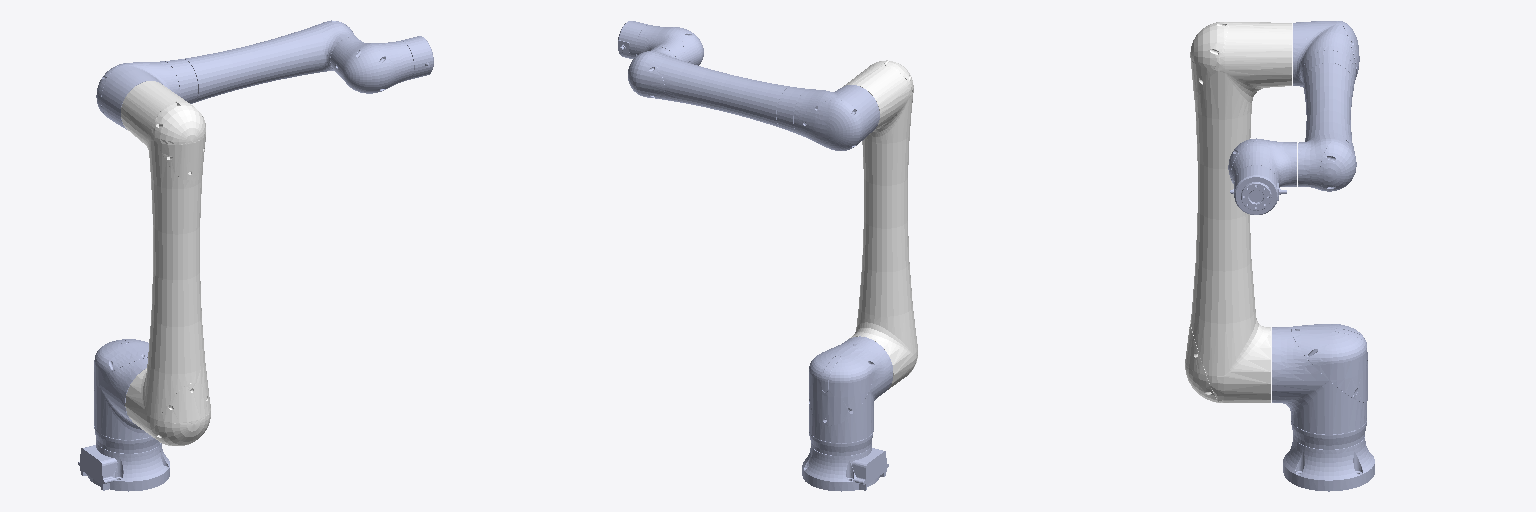
robot.urdf — fanuc:
<?xml version="1.0" encoding="utf-8"?>
<!-- This URDF was automatically created by SolidWorks to URDF Exporter! Originally created by [author] ([email redacted]) 
     Commit Version: 1.6.0-4-g7f85cfe  Build Version: 1.6.7995.38578
     For more information, please see http://wiki.ros.org/sw_urdf_exporter -->
<robot
  name="fanuc">
  
  <link 
    name="world"/>
    
  <joint 
    name="base_joint" 
    type="fixed">
    <origin
      xyz="0 0 0.0"
      rpy="-1.57 0 0" />
    <parent
      link="world" />
    <child
      link="base_link" />
  </joint>
  
  <link
    name="base_link">
    <inertial>
      <origin xyz="-0.00329048 -0.02033528 0.00093672"/>
      <mass value="9.92000000"/>
      <inertia ixx="0.02528990" ixy="-0.00030938" ixz="-0.00000638" iyy="0.04289183" iyz="0.00000276" izz="0.02888818"/>
    </inertial>

    <visual>
      <origin
        xyz="0 0 0"
        rpy="0 0 0" />
      <geometry>
        <mesh
          filename="package://fanuc/meshes/base_link.STL" />
      </geometry>
      <material
        name="">
        <color
          rgba="0.79608 0.82353 0.93725 1" />
      </material>
    </visual>
    <collision>
      <origin
        xyz="0 0 0"
        rpy="0 0 0" />
      <geometry>
        <mesh
          filename="package://fanuc/meshes/base_link.STL" />
      </geometry>
    </collision>
  </link>
  
  <link
    name="Link_1">
    <inertial>
      <origin xyz="-0.00506694 0.00467160 0.11028854"/>
      <mass value="3.84000000"/>
      <inertia ixx="0.02569997" ixy="-0.00000034" ixz="-0.00000014" iyy="0.02211221" iyz="0.00168942" izz="0.01667992"/>
    </inertial>


    <visual>
      <origin
        xyz="0 0 0"
        rpy="0 0 0" />
      <geometry>
        <mesh
          filename="package://fanuc/meshes/Link_1.STL" />
      </geometry>
      <material
        name="">
        <color
          rgba="0.79608 0.82353 0.93725 1" />
      </material>
    </visual>
    <collision>
      <origin
        xyz="0 0 0"
        rpy="0 0 0" />
      <geometry>
        <mesh
          filename="package://fanuc/meshes/Link_1.STL" />
      </geometry>
    </collision>
  </link>
  
  <joint
    name="Joint_1"
    type="revolute">
    <origin
      xyz="0 -0.1277 0"
      rpy="1.5708 0 0" />
    <parent
      link="base_link" />
    <child
      link="Link_1" />
    <axis
      xyz="0 0 -1" />
    <limit
      lower="-3.31613"
      upper="3.31613"
      effort="50"
      velocity="2.094395" />
  </joint>
  
  <link
    name="Link_2">
    <inertial>
      <origin xyz="0.00051231 -0.24024661 0.38801491"/>
      <mass value="11.52000000"/>
      <inertia ixx="0.67622107" ixy="0.00000567" ixz="0.00002455" iyy="0.66076284" iyz="-0.02211019" izz="0.05165074"/>
    </inertial>

    <visual>
      <origin
        xyz="0 0 0"
        rpy="0 0 0" />
      <geometry>
        <mesh
          filename="package://fanuc/meshes/Link_2.STL" />
      </geometry>
      <material
        name="">
        <color
          rgba="1 1 1 1" />
      </material>
    </visual>
    <collision>
      <origin
        xyz="0 0 0"
        rpy="0 0 0" />
      <geometry>
        <mesh
          filename="package://fanuc/meshes/Link_2.STL" />
      </geometry>
    </collision>
  </link>
  
  <joint
    name="Joint_2"
    type="revolute">
    <origin
      xyz="0 0 0.1173"
      rpy="0 0 0" />
    <parent
      link="Link_1" />
    <child
      link="Link_2" />
    <axis
      xyz="0 -1 0" />
    <limit
      lower="-3.14159"
      upper="3.14159"
      effort="45"
      velocity="2.094395" />
  </joint>
  
  <link
    name="Link_3">
    <inertial>
      <origin xyz="0.01750312 0.02330679 -0.00063791"/>
      <mass value="2.88000000"/>
      <inertia ixx="0.00684691" ixy="-0.00047246" ixz="0.00000038" iyy="0.01280498" iyz="0.00000009" izz="0.01307738"/>
    </inertial>

    <visual>
      <origin
        xyz="0 0 0"
        rpy="0 0 0" />
      <geometry>
        <mesh
          filename="package://fanuc/meshes/Link_3.STL" />
      </geometry>
      <material
        name="">
        <color
          rgba="0.796078431372549 0.823529411764706 0.937254901960784 1" />
      </material>
    </visual>
    <collision>
      <origin
        xyz="0 0 0"
        rpy="0 0 0" />
      <geometry>
        <mesh
          filename="package://fanuc/meshes/Link_3.STL" />
      </geometry>
    </collision>
  </link>
  
  <joint
    name="Joint_3"
    type="revolute">
    <origin
      xyz="0 0 0.71"
      rpy="0 0 0" />
    <parent
      link="Link_2" />
    <child
      link="Link_3" />
    <axis
      xyz="0 -1 0" />
    <limit
      lower="-4.97419"
      upper="4.97419"
      effort="40"
      velocity="3.141593" />
  </joint>
  
  <link
    name="Link_4">
    <inertial>
      <origin xyz="-0.02240763 0.00549191 -0.00001857"/>
      <mass value="8.64000000"/>
      <inertia ixx="0.01445615" ixy="0.00238610" ixz="0.00000151" iyy="0.13431462" iyz="0.00000302" izz="0.13541640"/>
    </inertial>

    <visual>
      <origin
        xyz="0 0 0"
        rpy="0 0 0" />
      <geometry>
        <mesh
          filename="package://fanuc/meshes/Link_4.STL" />
      </geometry>
      <material
        name="">
        <color
          rgba="0.796078431372549 0.823529411764706 0.937254901960784 1" />
      </material>
    </visual>
    <collision>
      <origin
        xyz="0 0 0"
        rpy="0 0 0" />
      <geometry>
        <mesh
          filename="package://fanuc/meshes/Link_4.STL" />
      </geometry>
    </collision>
  </link>
  
  <joint
    name="Joint_4"
    type="revolute">
    <origin
      xyz="0.54 0 0"
      rpy="0 0 0" />
    <parent
      link="Link_3" />
    <child
      link="Link_4" />
    <axis
      xyz="-1 0 0" />
    <limit
      lower="-3.31615"
      upper="3.31615"
      effort="34.8"
      velocity="3.1416" />
  </joint>
  
  <link
    name="Link_5">
    <inertial>
      <origin xyz="0.00048703 0.00243462 -0.00008948"/>
      <mass value="1.60000000"/>
      <inertia ixx="0.00311136" ixy="0.00029011" ixz="-0.00000001" iyy="0.00354547" iyz="-0.00000000" izz="0.00441730"/>
    </inertial>

    <visual>
      <origin
        xyz="0 0 0"
        rpy="0 0 0" />
      <geometry>
        <mesh
          filename="package://fanuc/meshes/Link_5.STL" />
      </geometry>
      <material
        name="">
        <color
          rgba="0.796078431372549 0.823529411764706 0.937254901960784 1" />
      </material>
    </visual>
    <collision>
      <origin
        xyz="0 0 0"
        rpy="0 0 0" />
      <geometry>
        <mesh
          filename="package://fanuc/meshes/Link_5.STL" />
      </geometry>
    </collision>
  </link>
  
  <joint
    name="Joint_5"
    type="revolute">
    <origin
      xyz="0 -0.15 0"
      rpy="0 0 0" />
    <parent
      link="Link_4" />
    <child
      link="Link_5" />
    <axis
      xyz="0 -1 0" />
    <limit
      lower="-3.14159"
      upper="3.14159"
      effort="26"
      velocity="3.1416" />
  </joint>
  
  <link
    name="Link_6">
    <inertial>
      <origin xyz="-0.01318563 0.00056378 -0.00024276"/>
      <mass value="1.60000000"/>
      <inertia ixx="0.00177658" ixy="0.00000062" ixz="-0.00000001" iyy="0.00120978" iyz="0.00000003" izz="0.00141833"/>
    </inertial>

    <visual>
      <origin
        xyz="0 0 0"
        rpy="0 0 0" />
      <geometry>
        <mesh
          filename="package://fanuc/meshes/Link_6.STL" />
      </geometry>
      <material
        name="">
        <color
          rgba="0.792156862745098 0.819607843137255 0.933333333333333 1" />
      </material>
    </visual>
    <collision>
      <origin
        xyz="0 0 0"
        rpy="0 0 0" />
      <geometry>
        <mesh
          filename="package://fanuc/meshes/Link_6.STL" />
      </geometry>
    </collision>
  </link>
  
  <joint
    name="Joint_6"
    type="revolute">
    <origin
      xyz="0.16 0 0"
      rpy="0 0 0" />
    <parent
      link="Link_5" />
    <child
      link="Link_6" />
    <axis
      xyz="1 0 0" />
    <limit
      lower="-3.927"
      upper="3.927"
      effort="11"
      velocity="3.1416" />
  </joint>
  
  <transmission 
    name="Link_1_Trans">
    <type>
      transmission_interface/SimpleTransmission
    </type>
    <joint 
    	name="Joint_1">
      <hardwareInterface>
        hardware_interface/PositionJointInterface
      </hardwareInterface>
    </joint>
    <actuator
      name="Joint_1_Motor">
      <hardwareInterface>
        hardware_interface/PositionJointInterface
      </hardwareInterface>
      <mechanicalReduction>1</mechanicalReduction>
    </actuator>
  </transmission>
  
  <transmission 
    name="Link_2_Trans">
    <type>
      transmission_interface/SimpleTransmission
    </type>
    <joint 
    	name="Joint_2">
      <hardwareInterface>
        hardware_interface/PositionJointInterface
      </hardwareInterface>
    </joint>
    <actuator
      name="Joint_2_Motor">
      <hardwareInterface>
        hardware_interface/PositionJointInterface
      </hardwareInterface>
      <mechanicalReduction>1</mechanicalReduction>
    </actuator>
  </transmission>
  
  <transmission 
    name="Link_3_Trans">
    <type>
      transmission_interface/SimpleTransmission
    </type>
    <joint 
    	name="Joint_3">
      <hardwareInterface>
        hardware_interface/PositionJointInterface
      </hardwareInterface>
    </joint>
    <actuator
      name="Joint_3_Motor">
      <hardwareInterface>
        hardware_interface/PositionJointInterface
      </hardwareInterface>
      <mechanicalReduction>1</mechanicalReduction>
    </actuator>
  </transmission>
  
  <transmission 
    name="Link_4_Trans">
    <type>
      transmission_interface/SimpleTransmission
    </type>
    <joint 
    	name="Joint_4">
      <hardwareInterface>
        hardware_interface/PositionJointInterface
      </hardwareInterface>
    </joint>
    <actuator
      name="Joint_4_Motor">
      <hardwareInterface>
        hardware_interface/PositionJointInterface
      </hardwareInterface>
      <mechanicalReduction>1</mechanicalReduction>
    </actuator>
  </transmission>
  
  <transmission 
    name="Link_5_Trans">
    <type>
      transmission_interface/SimpleTransmission
    </type>
    <joint 
    	name="Joint_5">
      <hardwareInterface>
        hardware_interface/PositionJointInterface
      </hardwareInterface>
    </joint>
    <actuator
      name="Joint_5_Motor">
      <hardwareInterface>
        hardware_interface/PositionJointInterface
      </hardwareInterface>
      <mechanicalReduction>1</mechanicalReduction>
    </actuator>
  </transmission>
  
  <transmission 
    name="Link_6_Trans">
    <type>
      transmission_interface/SimpleTransmission
    </type>
    <joint 
    	name="Joint_6">
      <hardwareInterface>
        hardware_interface/PositionJointInterface
      </hardwareInterface>
    </joint>
    <actuator
      name="Joint_6_Motor">
      <hardwareInterface>
        hardware_interface/PositionJointInterface
      </hardwareInterface>
      <mechanicalReduction>1</mechanicalReduction>
    </actuator>
  </transmission>

  <gazebo>
    <plugin
      name="control"
      filename="libgazebo_ros_control.so">
      <robotNamespace>/</robotNamespace>
    </plugin>
    <plugin 
      name="gazebo_ros_control" 
      filename="libgazebo_ros_control.so">
      <robotNamespace>/</robotNamespace>
    </plugin>
  </gazebo>
  
  <gazebo
    reference="Link_1">
    <selfCollide>true</selfCollide>
    <turnGravityOff>true</turnGravityOff>
  </gazebo>
  
  <gazebo
    reference="Link_2">
    <selfCollide>true</selfCollide>
    <turnGravityOff>true</turnGravityOff>
  </gazebo>
  
  <gazebo
    reference="Link_3">
    <selfCollide>true</selfCollide>
    <turnGravityOff>true</turnGravityOff>
  </gazebo>
  
  <gazebo
    reference="Link_4">
    <selfCollide>true</selfCollide>
    <turnGravityOff>true</turnGravityOff>
  </gazebo>
  
  <gazebo
    reference="Link_5">
    <selfCollide>true</selfCollide>
    <turnGravityOff>true</turnGravityOff>
  </gazebo>
  
  <gazebo
    reference="Link_6">
    <selfCollide>true</selfCollide>
    <turnGravityOff>true</turnGravityOff>
  </gazebo>
  
</robot>

--- What the picture shows (computed from the rendered views, not written in the file) ---
Views: 3 orthographic renders of the robot side by side, from view 1: azimuth 30°, elevation 25°; view 2: azimuth 150°, elevation 25°; view 3: azimuth 270°, elevation 25°.
Model fanuc with 8 links and 7 joints (6 revolute, 1 fixed), rooted at world, posed all joints at 0.
Visible links, largest first — view 1: Link_2, Link_4, Link_1, Link_5, Link_3, base_link, Link_6; view 2: Link_2, Link_1, Link_4, Link_3, base_link, Link_5, Link_6; view 3: Link_2, Link_1, Link_4, base_link, Link_3, Link_5, Link_6.
Boxes of the visible links, box(x1,y1,x2,y2) form: Link_2: box(121, 81, 210, 445); Link_4: box(185, 20, 356, 102); Link_1: box(94, 339, 159, 453); Link_5: box(330, 37, 413, 93); Link_3: box(96, 59, 197, 129); base_link: box(78, 442, 169, 491); Link_6: box(401, 36, 433, 79); Link_2: box(843, 60, 917, 389); Link_1: box(809, 336, 892, 455); Link_4: box(628, 47, 789, 127); Link_3: box(776, 85, 879, 150); base_link: box(802, 445, 888, 491); Link_5: box(636, 25, 703, 65); Link_6: box(618, 21, 647, 58); Link_2: box(1185, 22, 1291, 402); Link_1: box(1272, 324, 1367, 449); Link_4: box(1298, 63, 1356, 191); base_link: box(1283, 437, 1374, 491); Link_3: box(1293, 21, 1359, 87); Link_5: box(1228, 138, 1296, 187); Link_6: box(1230, 165, 1286, 214).
Bounding box of the posed robot: 0.7988 × 0.3936 × 1.03 m (x, y, z).
7 mesh visuals loaded from 7 distinct referenced files (7 binary STL).